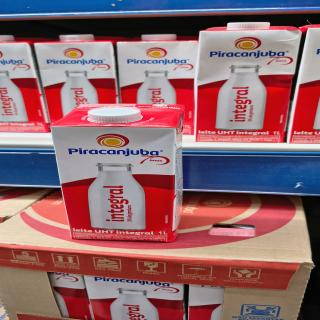Milk: (36, 100, 196, 246), (198, 20, 297, 144), (17, 32, 116, 108), (106, 25, 203, 98)
